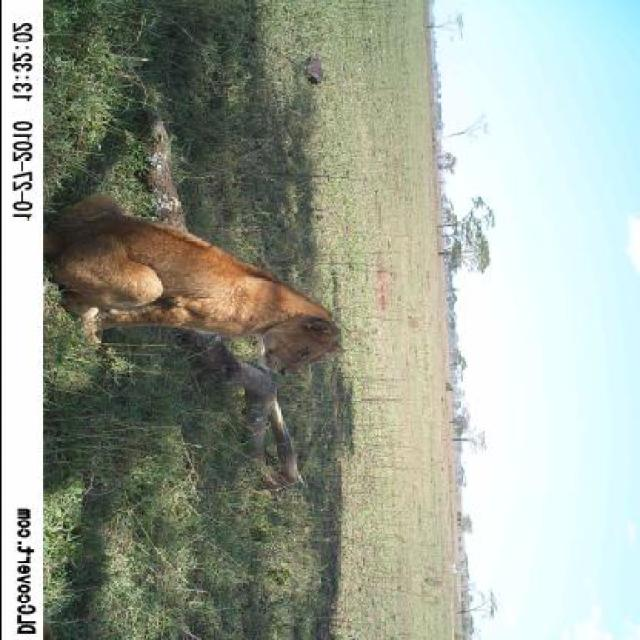Lion: (49, 189, 351, 385)
